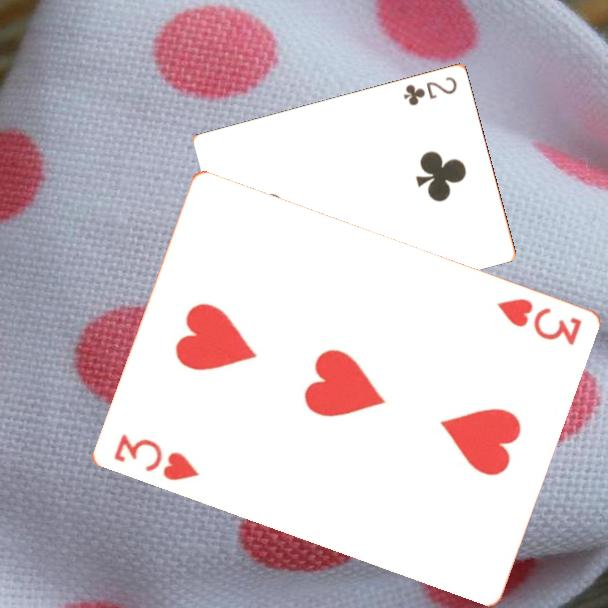c02: (400, 73, 460, 108)
h03: (492, 295, 584, 349), (110, 431, 202, 484)
